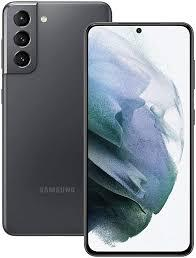Smartphone: (83, 19, 191, 258), (3, 4, 108, 234)
